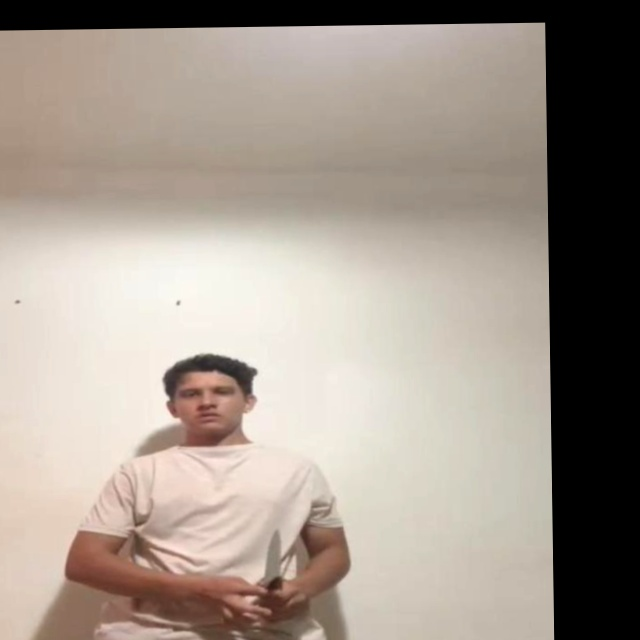Sharp-Object: (263, 533, 283, 585)
